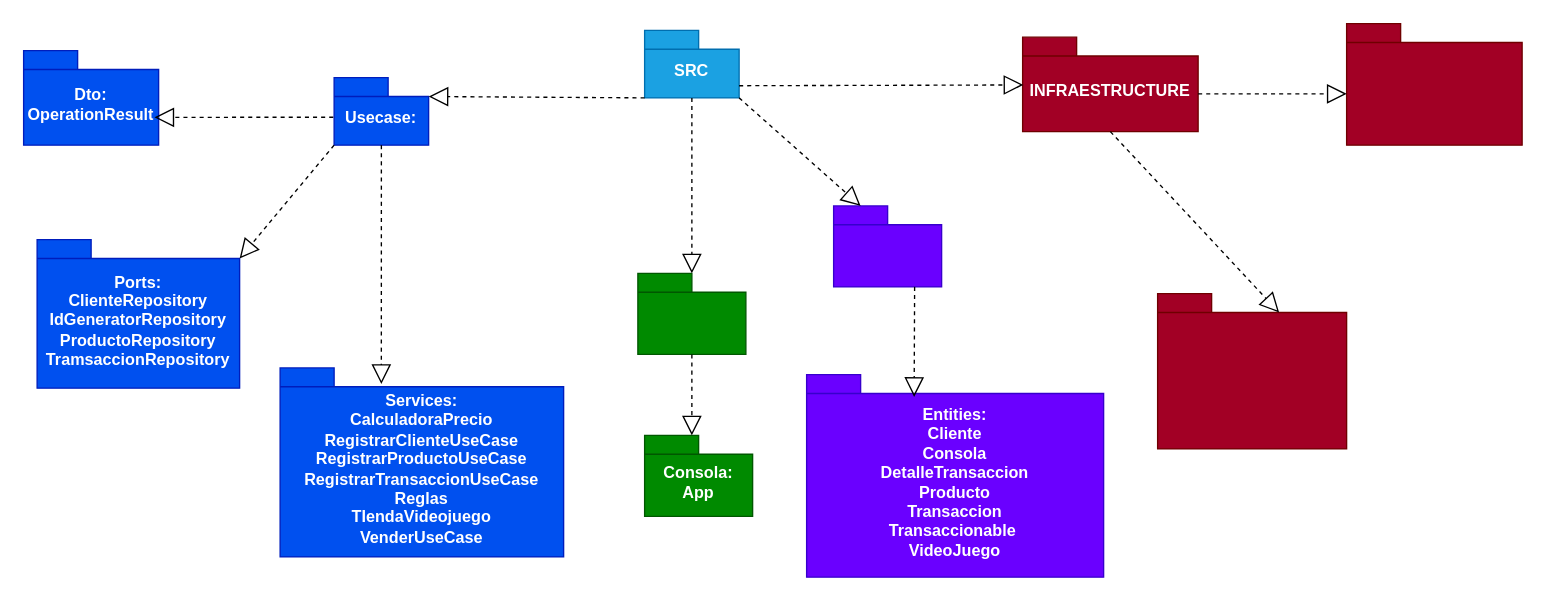
Image size: 1546x601. Some labels were removed from this diagram. Here are the shapes that lost their labels. From the top down, the box of each, then its label:
(1345, 22, 1522, 145): services IdGenerator.java
(832, 205, 942, 287): ENTITIES
(637, 272, 746, 354): ADAPTERS
(1156, 292, 1347, 449): repositories InMemory Cliente Producto Transaccion
